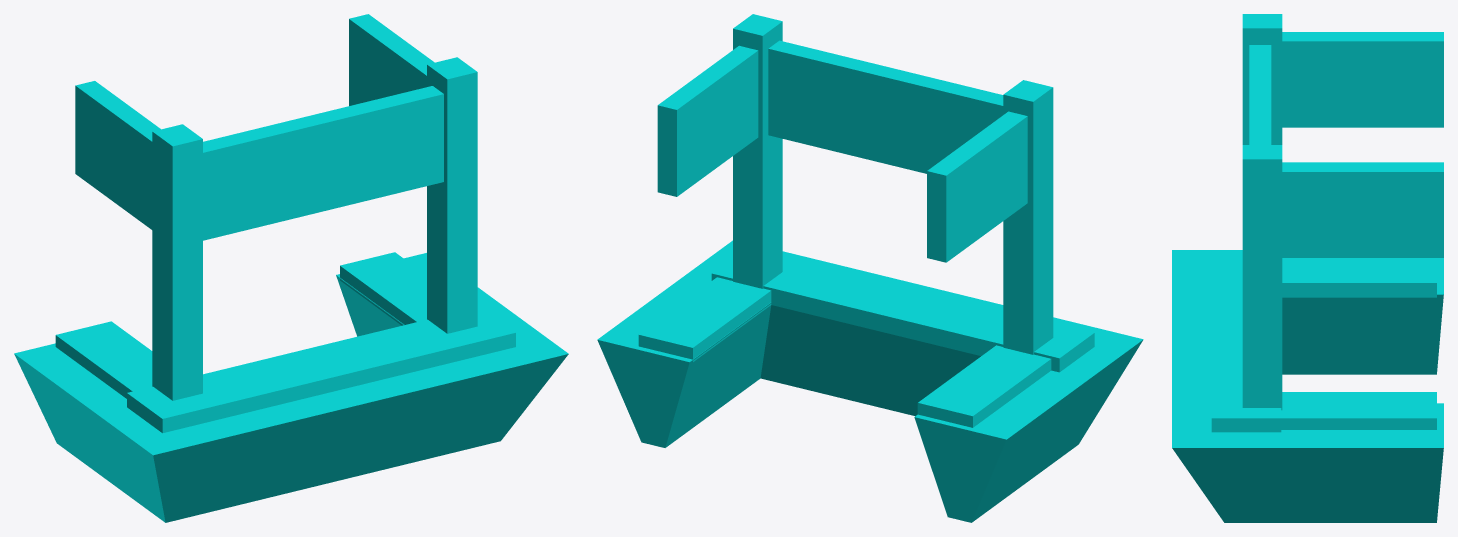
Rendered from SM_Bld_Wall_Shop_Front_01_Collision.fbx.
3 views of the same model, side by side, from view 1: azimuth 30°, elevation 25°; view 2: azimuth 150°, elevation 25°; view 3: azimuth 270°, elevation 25° (orthographic). The views are drawn at different scales.
Visible parts, largest first — view 1: SM_Bld_Wall_Shop_Front_01_Collision; view 2: SM_Bld_Wall_Shop_Front_01_Collision; view 3: SM_Bld_Wall_Shop_Front_01_Collision.
Boxes of the visible parts, x1,y1,x2,y2 form: SM_Bld_Wall_Shop_Front_01_Collision: [14, 14, 568, 522]; SM_Bld_Wall_Shop_Front_01_Collision: [597, 14, 1143, 522]; SM_Bld_Wall_Shop_Front_01_Collision: [1172, 14, 1443, 522].
Size of the model in its own units: 351 by 295 by 203.
